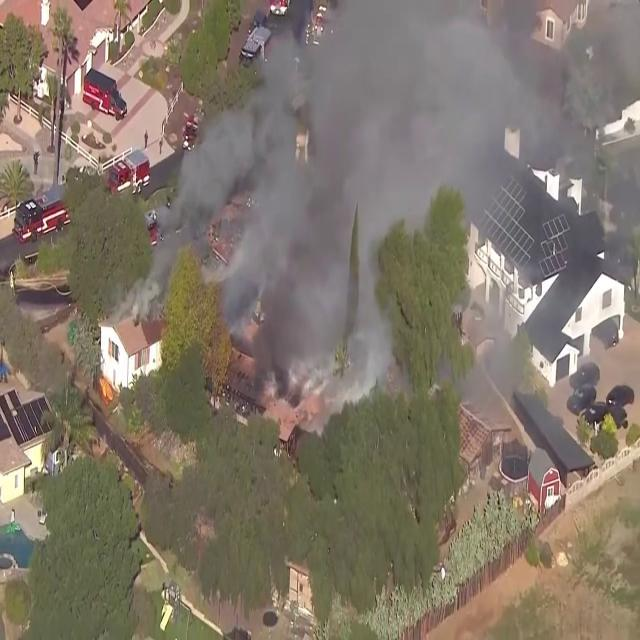Smoke: (167, 1, 436, 412), (234, 0, 578, 229)
